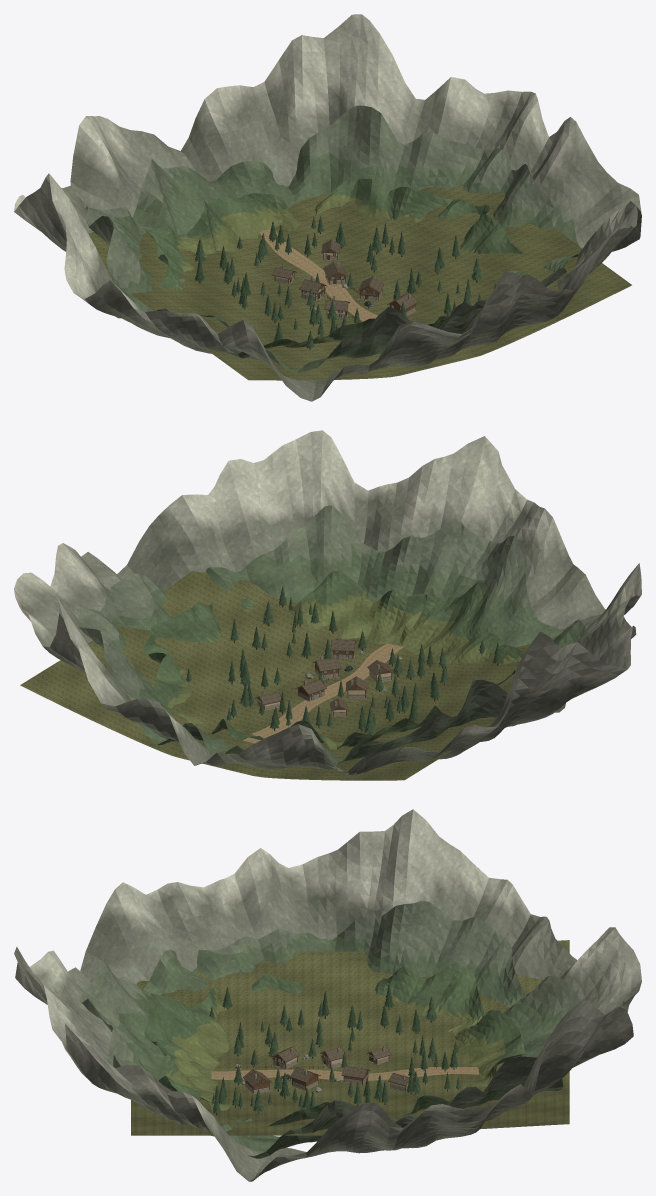
Rendered from valley.glb.
3 views of the same model, one above another, from view 1: azimuth 30°, elevation 25°; view 2: azimuth 150°, elevation 25°; view 3: azimuth 270°, elevation 25° (orthographic).
Parts seen in each view (by area): view 1: Lugina e artë • village world; view 2: Lugina e artë • village world; view 3: Lugina e artë • village world.
Part boxes in pixels (box(x1,y1,x2,y2)): Lugina e artë • village world: box(14, 14, 641, 401); Lugina e artë • village world: box(14, 430, 641, 780); Lugina e artë • village world: box(14, 809, 641, 1181).
Size of the model in its own units: 219 by 56.63 by 218.
Materials: 20 (10 with a texture image).
